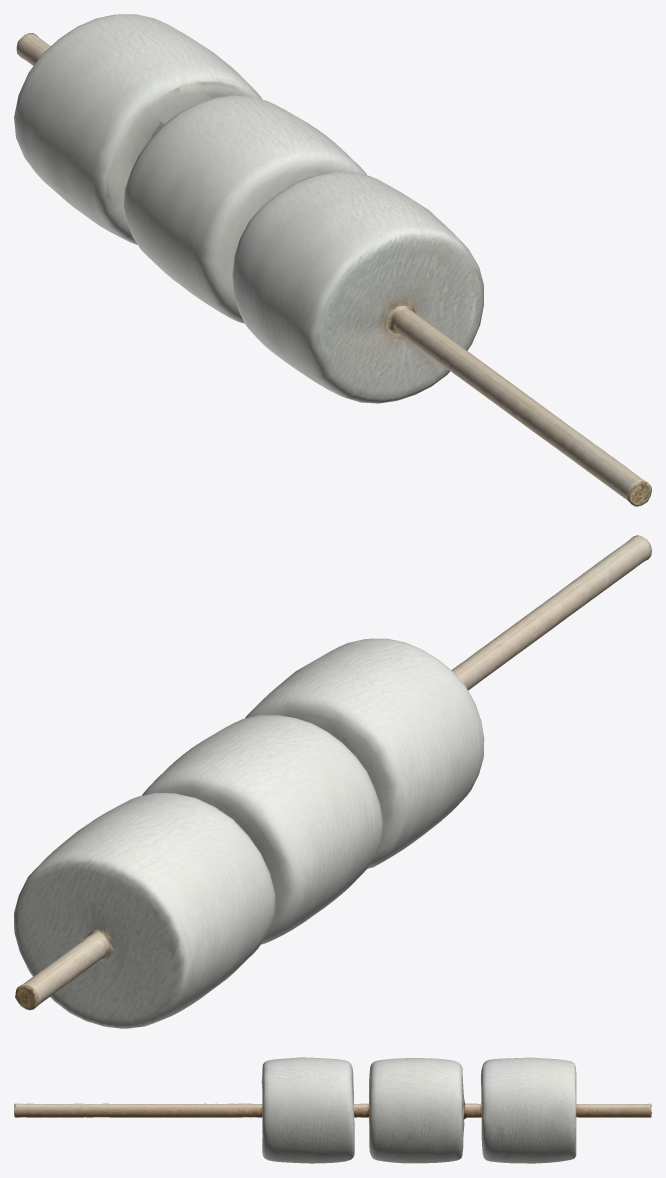
The model's file is mashmallow.fbx.
The picture shows the model from 3 angles, top to bottom: view 1: azimuth 30°, elevation 25°; view 2: azimuth 150°, elevation 25°; view 3: azimuth 270°, elevation 25°; orthographic projection. The views are drawn at different scales.
Parts seen in each view (by area): view 1: texture_mapping; view 2: texture_mapping; view 3: texture_mapping.
Boxes of the visible parts, x1,y1,x2,y2 form: texture_mapping: (14,14,651,506); texture_mapping: (14,535,651,1028); texture_mapping: (14,1057,651,1163).
Bounding box in the file's own units: 0.1749 × 1 × 0.1653.
Materials: 1 (1 with a texture image).
